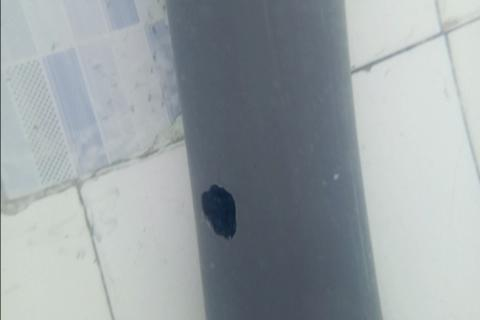kebocoran: (199, 182, 239, 242)
